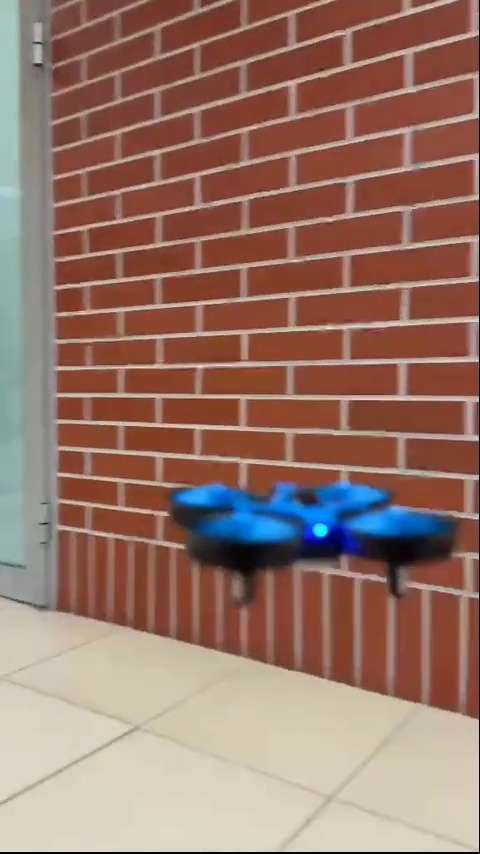drone: (180, 478, 462, 604)
